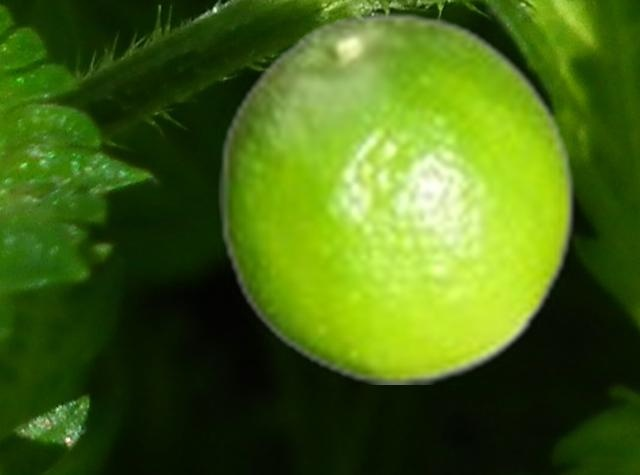calamansi: (218, 10, 576, 383)
